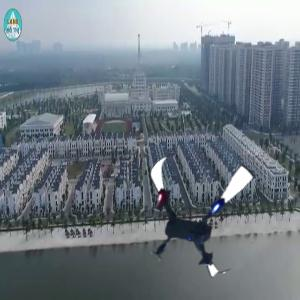drone: (127, 143, 263, 279)
